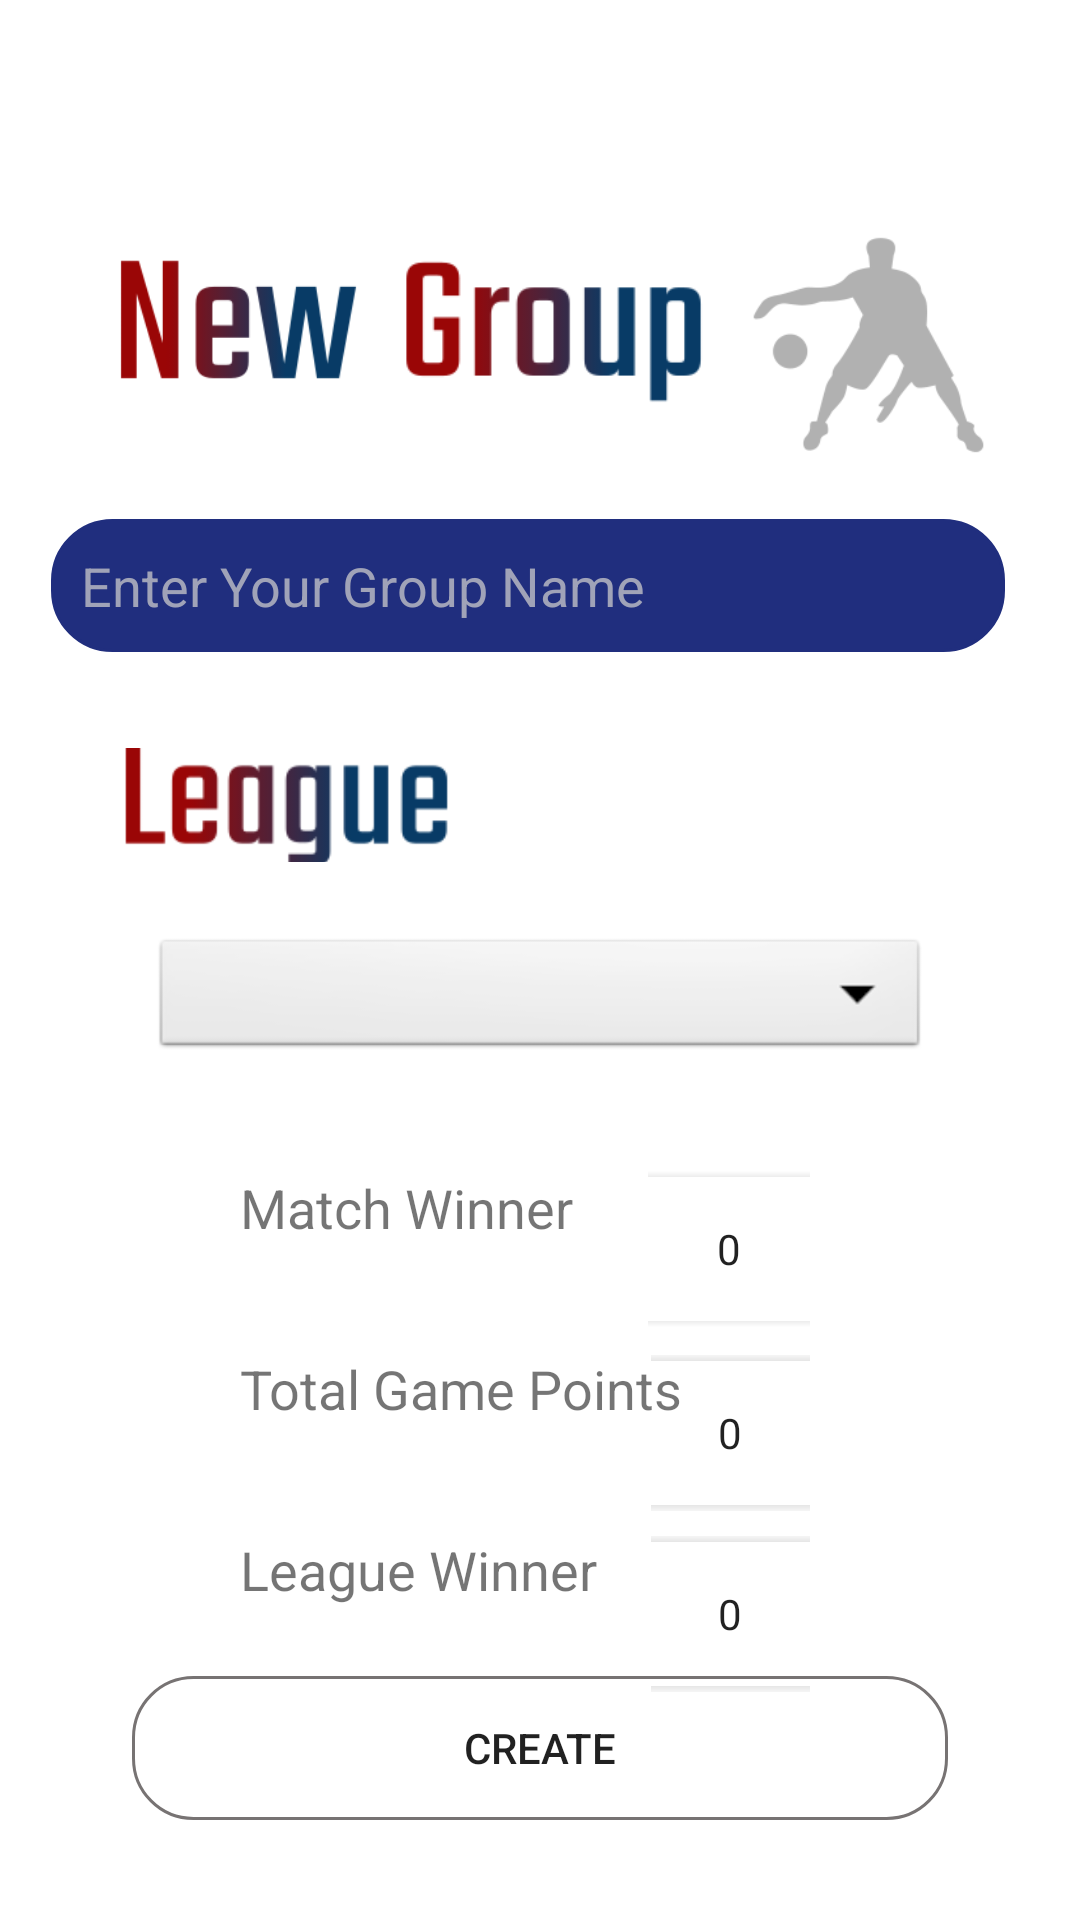

Icons on this 1080x1920 Android screen, each with the point to tap as (x,y):
grayplayer: (868,345)
